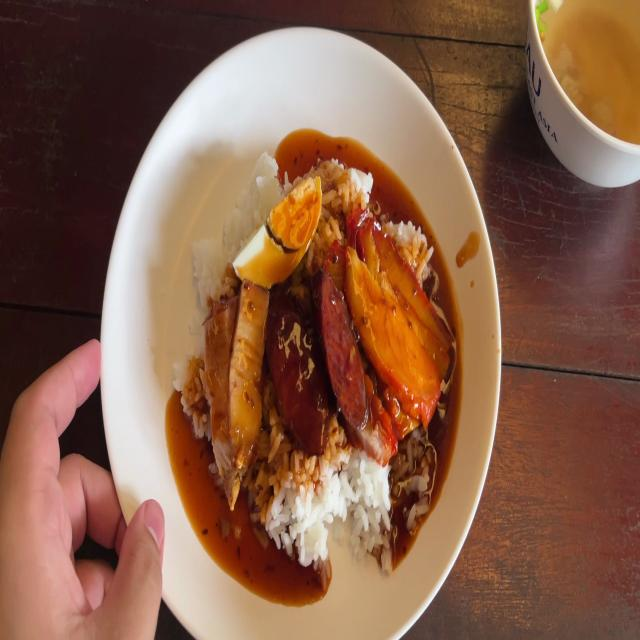01boiled_egg: (241, 170, 320, 275)
01chainese_sausage: (271, 287, 331, 448), (320, 270, 364, 417)
01crispy_pork: (201, 287, 267, 493), (230, 288, 272, 452), (205, 293, 236, 487)
01red_pork: (342, 245, 423, 405), (361, 218, 446, 368)
01red_pork_and_crispy_pork: (188, 146, 440, 547)
01rice: (268, 455, 389, 561)
